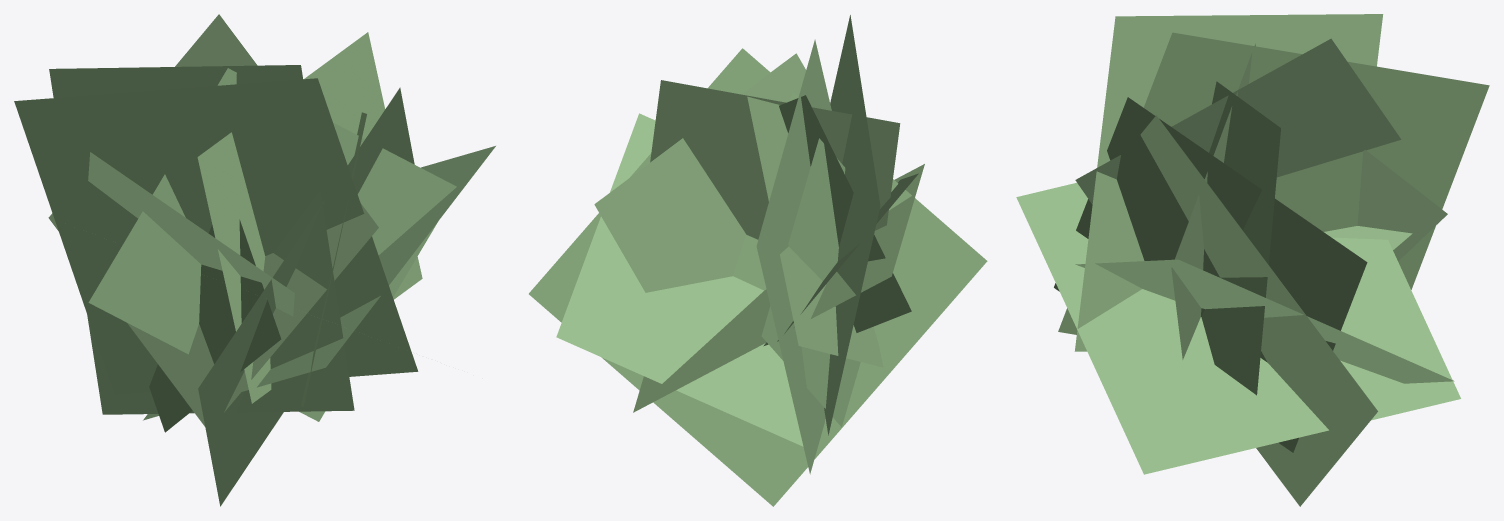
File: touffe_thuya.glb
3 renders of one model, left to right at view 1: azimuth 30°, elevation 25°; view 2: azimuth 150°, elevation 25°; view 3: azimuth 270°, elevation 25°, orthographic. The views are drawn at different scales.
Parts seen in each view (by area): view 1: touffe_thuya; view 2: touffe_thuya; view 3: touffe_thuya.
Part boxes in pixels (left/top/right/bottom): touffe_thuya: left=14, top=14, right=495, bottom=506; touffe_thuya: left=529, top=15, right=987, bottom=506; touffe_thuya: left=1016, top=14, right=1489, bottom=506.
Bounding box in the file's own units: 0.824 × 0.9616 × 0.8372.
